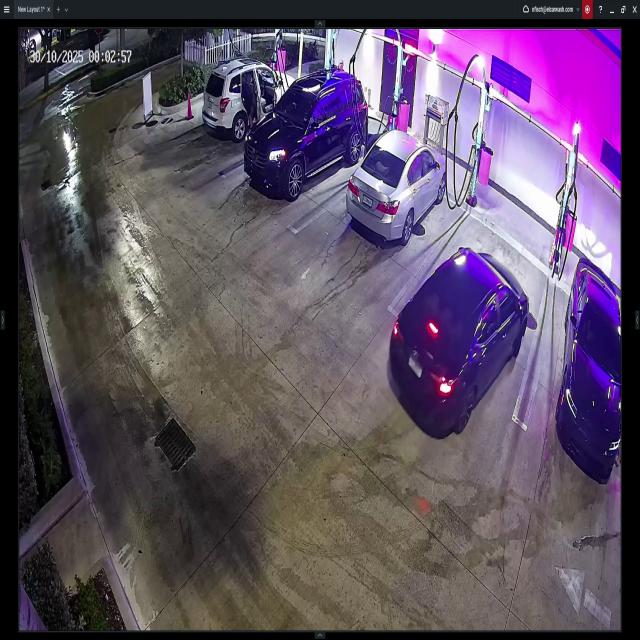Car: (391, 250, 531, 436), (558, 256, 622, 477), (245, 68, 366, 183), (349, 136, 449, 246), (207, 60, 298, 150)
